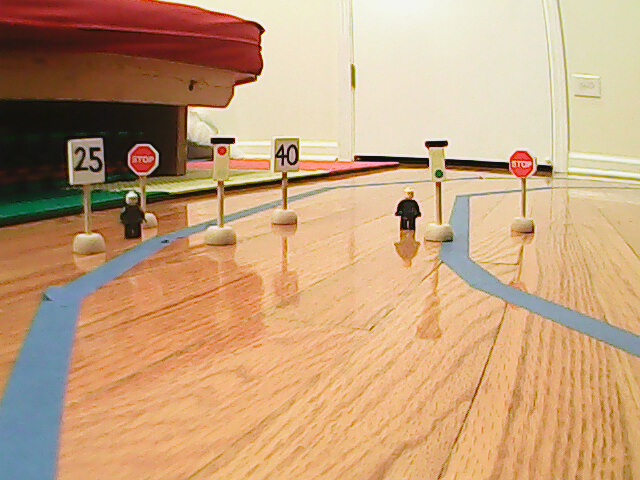Green Traffic Light: (424, 139, 449, 181)
Person: (395, 186, 422, 231), (123, 191, 146, 239)
Red Traffic Light: (211, 137, 236, 185)
Speed Limit 25: (69, 136, 105, 186)
Speed Limit 40: (272, 137, 300, 174)
Stop Sign: (125, 142, 161, 178), (507, 149, 538, 182)
